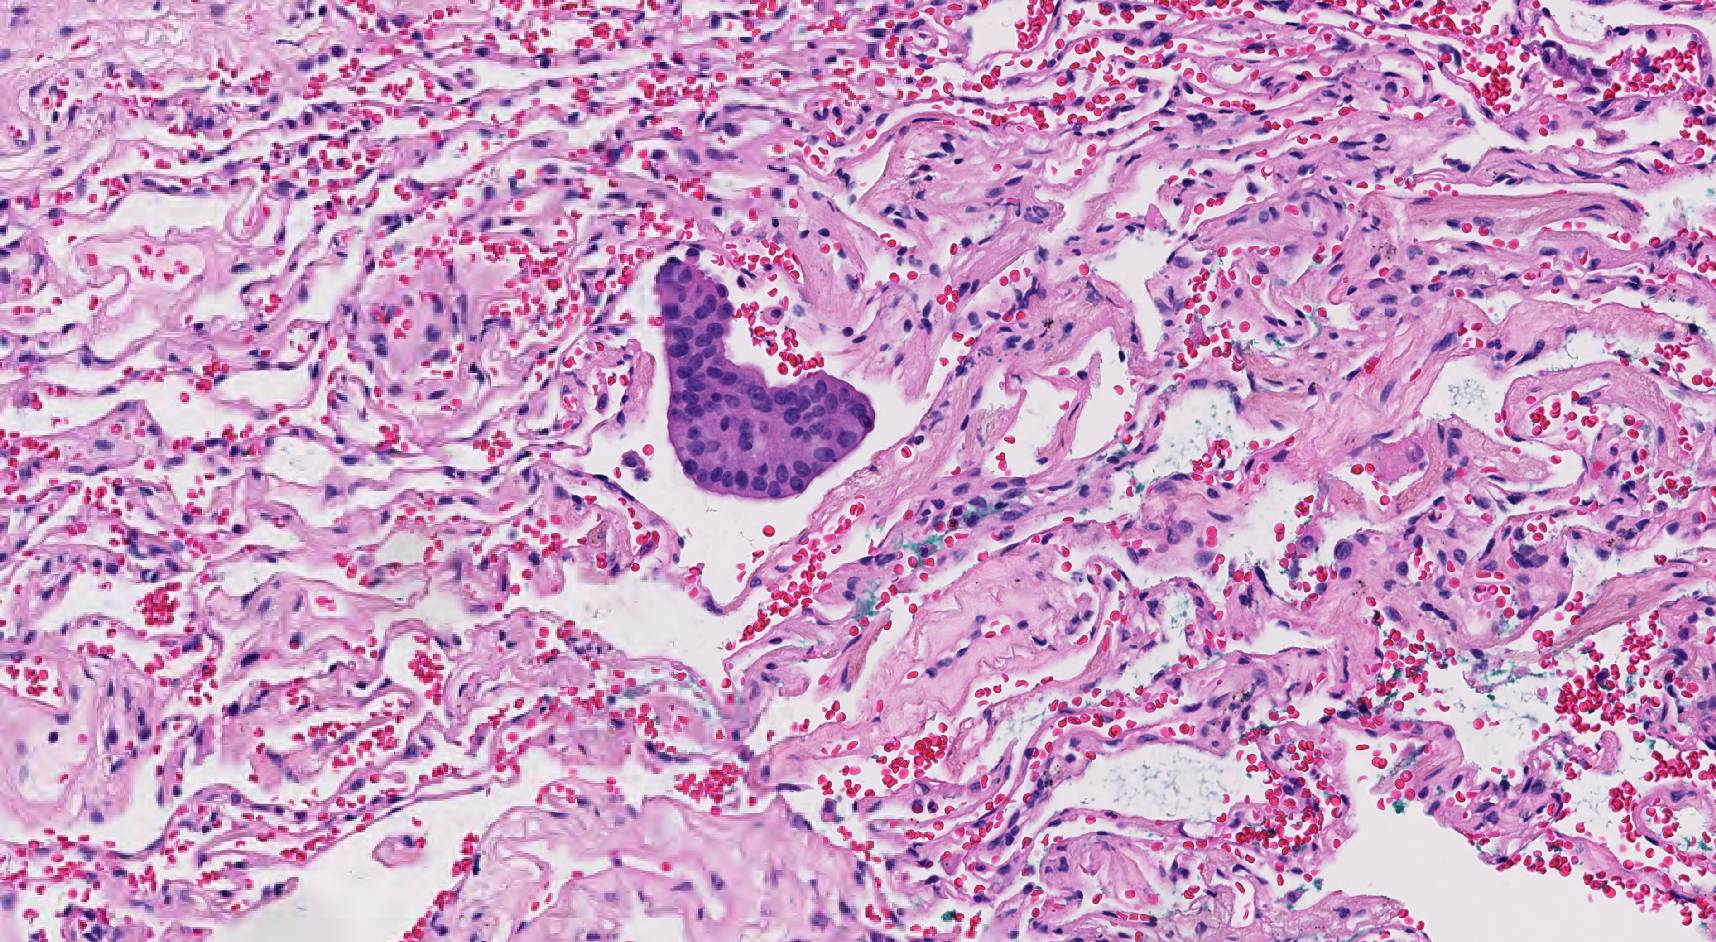stas: (656, 258, 880, 507)
